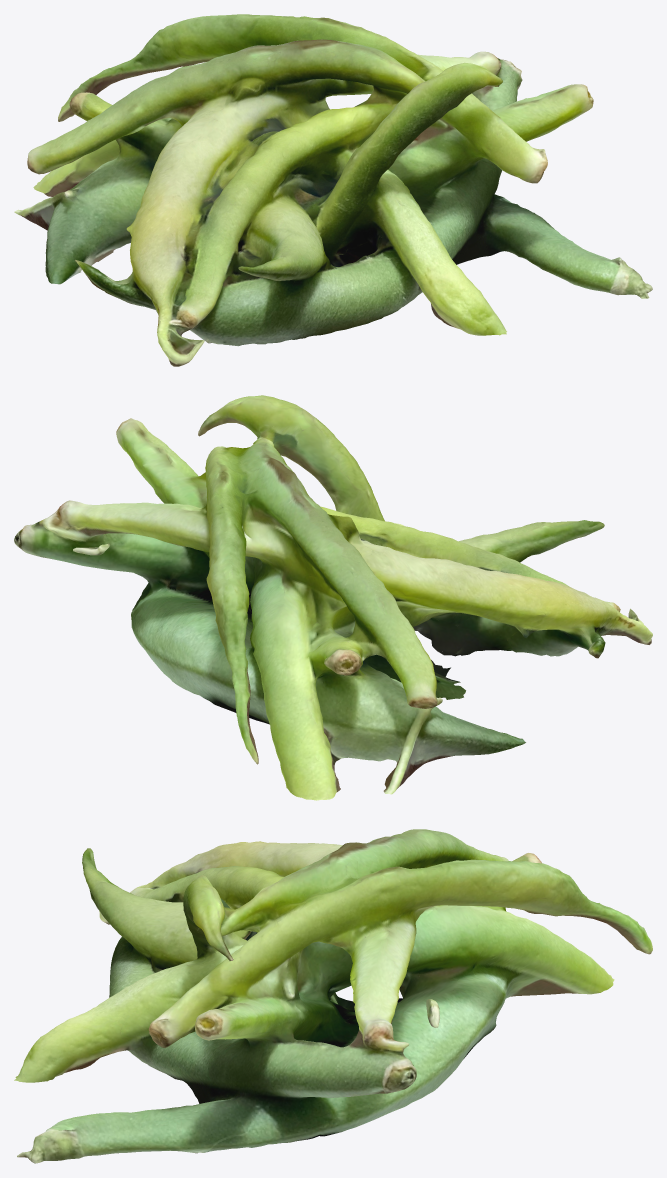
The model's file is beans.glb.
3 views of the same model, one above another, from view 1: azimuth 30°, elevation 25°; view 2: azimuth 150°, elevation 25°; view 3: azimuth 270°, elevation 25° (orthographic). The views are drawn at different scales.
Visible parts, largest first — view 1: Object_4; view 2: Object_4; view 3: Object_4.
Part boxes in pixels (x1=…): Object_4: x1=14, y1=14, x2=652, y2=366; Object_4: x1=14, y1=395, x2=652, y2=800; Object_4: x1=14, y1=829, x2=652, y2=1163.
Size of the model in its own units: 0.8344 by 0.3128 by 0.8512.
1 material, 1 textured.
